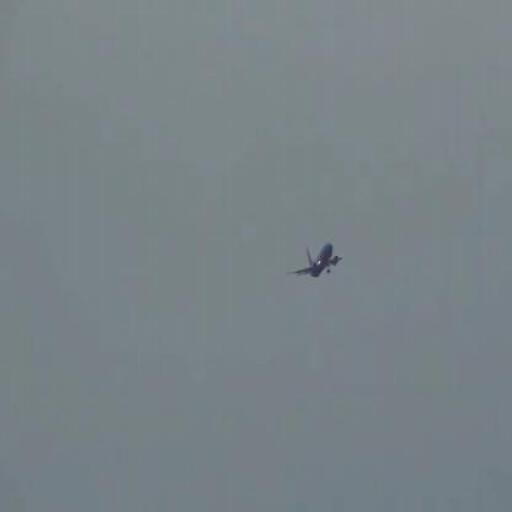aircraft: (287, 243, 343, 278)
